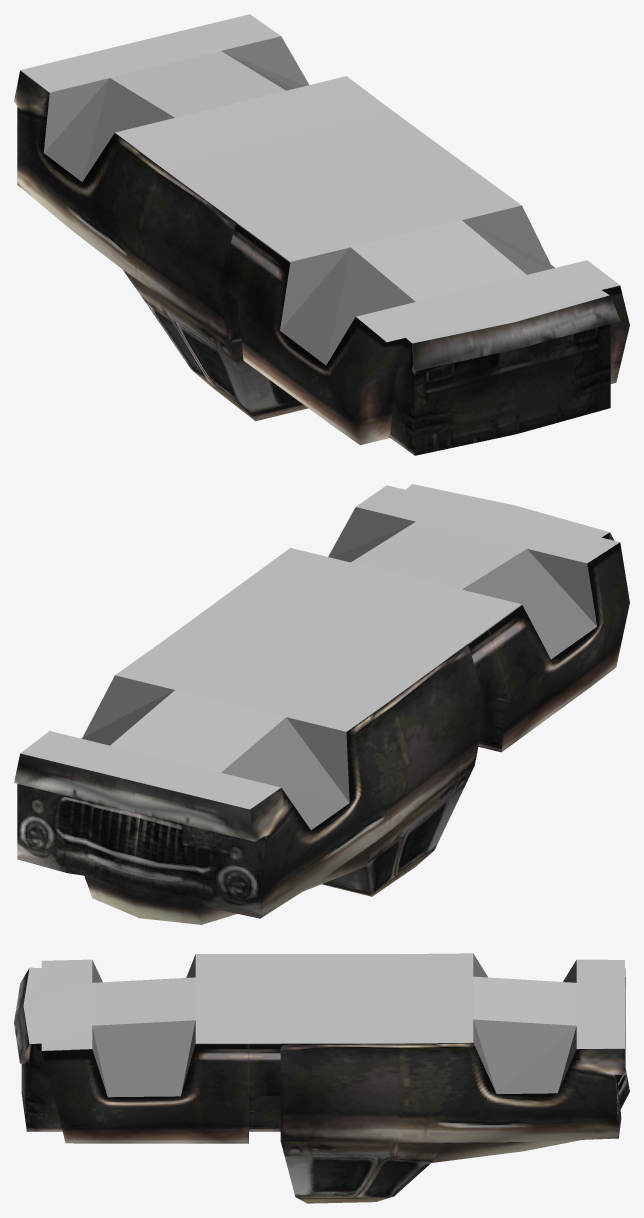
The model's file is RIO_model9_clean.obj.
3 views of the same model, one above another, from view 1: azimuth 30°, elevation 25°; view 2: azimuth 150°, elevation 25°; view 3: azimuth 270°, elevation 25° (orthographic). The views are drawn at different scales.
Parts seen in each view (by area): view 1: RIO_model9_clean; view 2: RIO_model9_clean; view 3: RIO_model9_clean.
Part boxes in pixels (x1,y1,x2,y2): RIO_model9_clean: [14, 14, 629, 455]; RIO_model9_clean: [14, 484, 629, 924]; RIO_model9_clean: [14, 953, 629, 1203].
Size of the model in its own units: 294 by 224 by 716.
